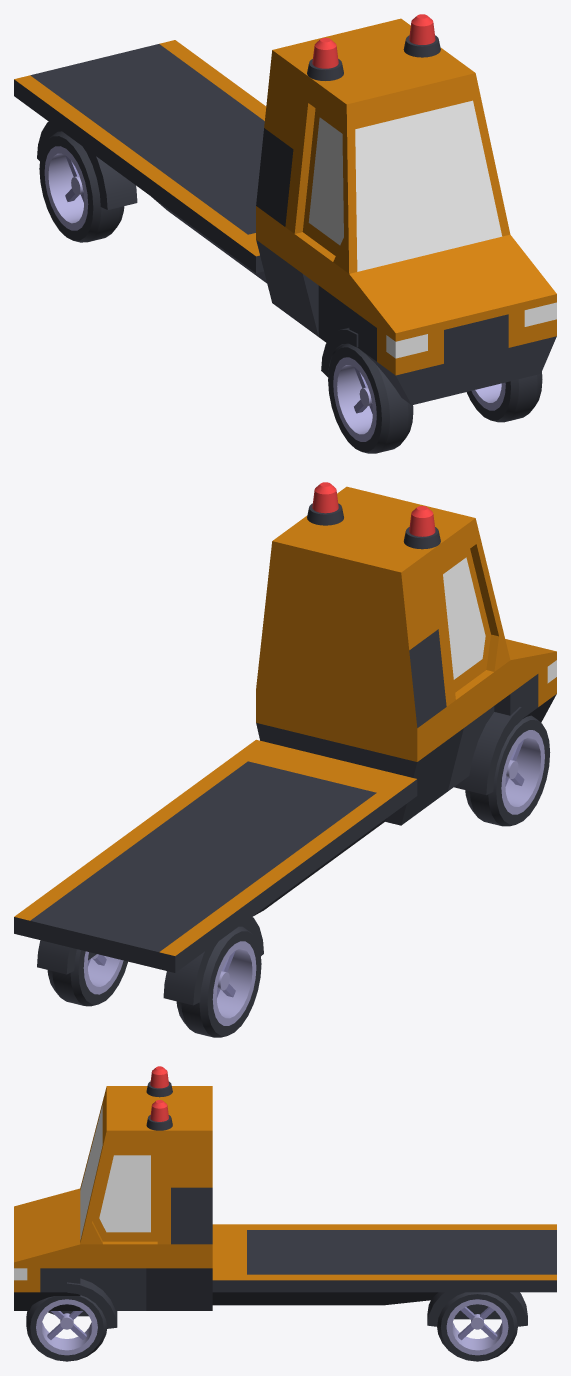
The model's file is Emergancy Car.fbx.
The picture shows the model from 3 angles, top to bottom: view 1: azimuth 30°, elevation 25°; view 2: azimuth 150°, elevation 25°; view 3: azimuth 270°, elevation 25°; orthographic projection. The views are drawn at different scales.
Parts seen in each view (by area): view 1: body_topVan, body_backFlat, body_frontTruckShort, wheel_cycleSpokes (×3), body_sports, detail_siren (×2), wheel_coverStandard, wheel_coverStandardHalf; view 2: body_backFlat, body_topVan, body_sports, wheel_cycleSpokes (×3), body_frontTruckShort, wheel_coverStandard (×2), wheel_coverStandardHalf, detail_siren (×2); view 3: body_backFlat, body_topVan, body_sports, wheel_cycleSpokes (×2), body_frontTruckShort, wheel_coverStandard, detail_siren (×2), wheel_coverStandardHalf.
Boxes of the visible parts, x1,y1,x2,y2 form: body_topVan: (256, 18, 510, 273); body_backFlat: (14, 40, 266, 283); body_frontTruckShort: (349, 234, 556, 405); wheel_cycleSpokes (×3): (39, 131, 542, 453); body_sports: (256, 206, 349, 342); detail_siren (×2): (307, 14, 440, 80); wheel_coverStandard: (37, 121, 137, 209); wheel_coverStandardHalf: (321, 327, 358, 377); body_backFlat: (14, 739, 417, 972); body_topVan: (256, 486, 510, 728); body_sports: (256, 660, 510, 825); wheel_cycleSpokes (×3): (47, 715, 550, 1037); body_frontTruckShort: (494, 639, 556, 722); wheel_coverStandard (×2): (37, 917, 263, 1005); wheel_coverStandardHalf: (454, 707, 521, 795); detail_siren (×2): (307, 482, 440, 549); body_backFlat: (212, 1224, 556, 1305); body_topVan: (80, 1086, 212, 1244); body_sports: (80, 1241, 212, 1310); wheel_cycleSpokes (×2): (26, 1292, 517, 1361); body_frontTruckShort: (14, 1188, 80, 1310); wheel_coverStandard: (427, 1292, 527, 1326); detail_siren (×2): (146, 1066, 172, 1130); wheel_coverStandardHalf: (67, 1278, 117, 1328).
Size of the model in its own units: 10.44 by 21.05 by 41.
